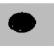correct: (7, 10, 37, 34)
